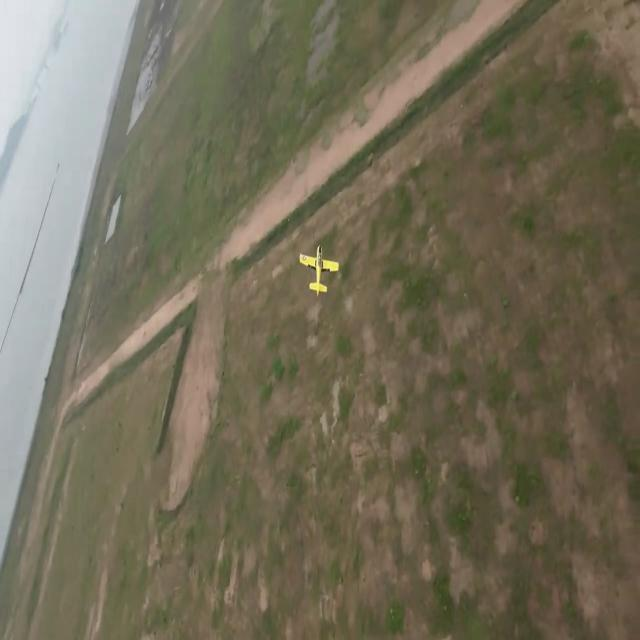iha: (288, 239, 344, 302)
